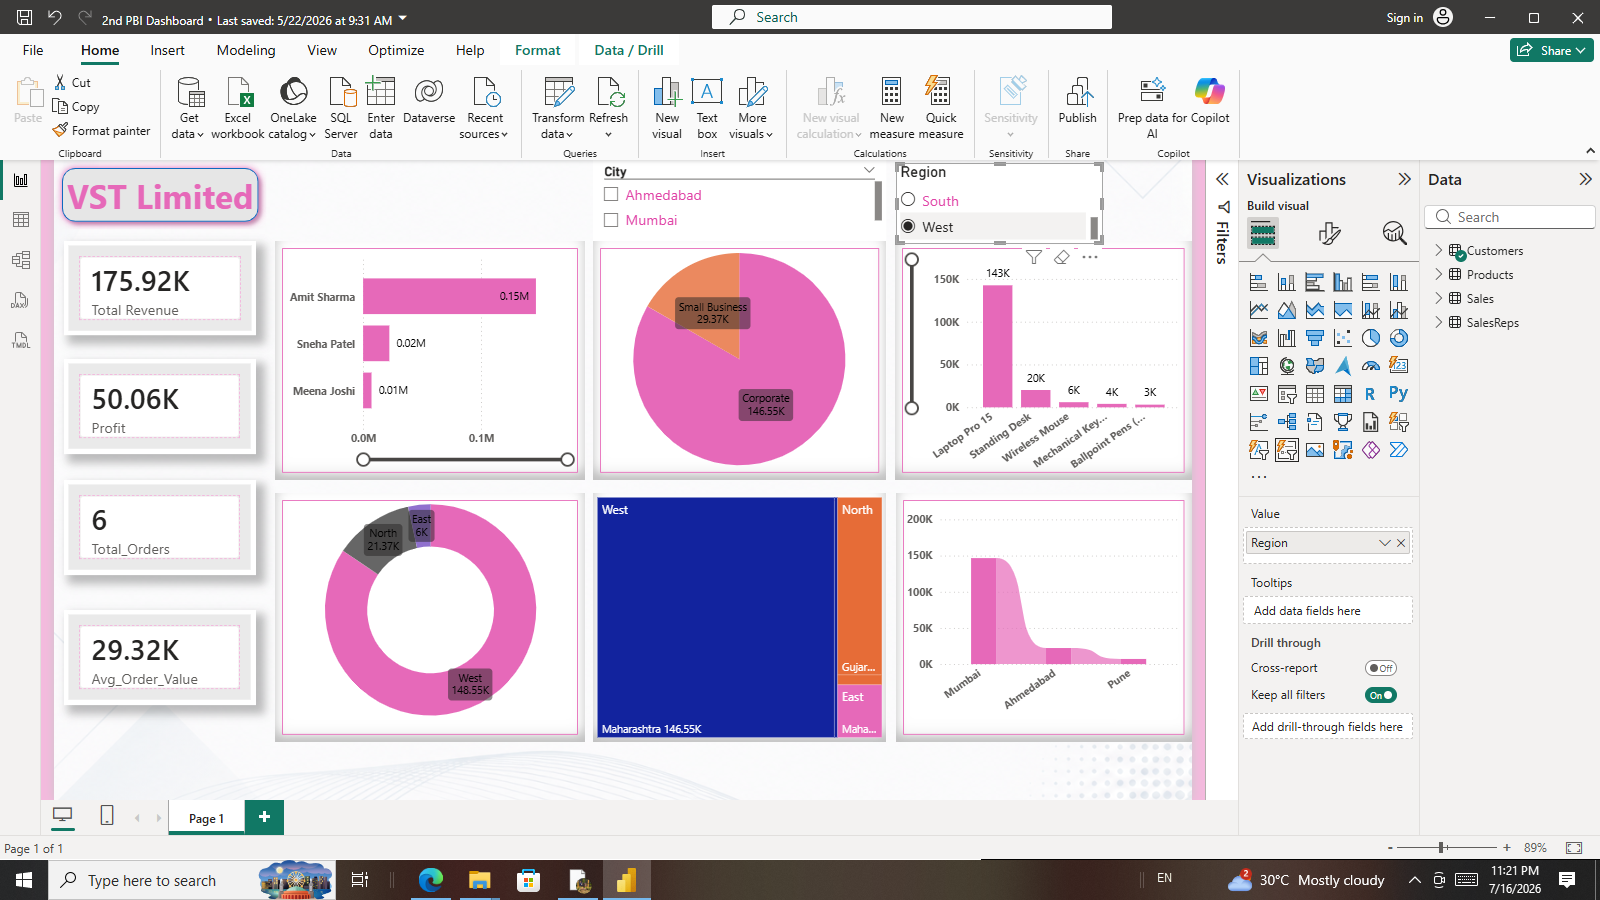

The dashboard page shown, as its layout file describes it:
{"tool":"powerbi","page":{"name":"Page 1","canvas":[1280,720],"ordinal":0},"visuals":[{"type":"shape","box":[0,0,239,78.4],"z":0},{"type":"cardVisual","fields":{"Data":["Customers.Total Revenue"]},"box":[11.2,91.2,216.2,106.2],"z":1000},{"type":"cardVisual","fields":{"Data":["Customers.Profit"]},"box":[11.6,223.6,215.9,106.7],"z":2000},{"type":"cardVisual","fields":{"Data":["Customers.Total_Orders"]},"box":[11.6,359.8,215.9,106.7],"z":3000},{"type":"cardVisual","fields":{"Data":["Customers.Avg_Order_Value"]},"box":[11.6,506.3,215.9,106.7],"z":4000},{"type":"shape","box":[248.8,91.2,348.8,268.8],"z":5000},{"type":"shape","box":[606.2,91.2,330,268.8],"z":6000},{"type":"shape","box":[248.8,375,348.8,280],"z":7000},{"type":"shape","box":[606.2,375,330,280],"z":8000},{"type":"shape","box":[946.2,91.2,333.8,268.8],"z":9000},{"type":"shape","box":[947.5,375,332.5,280],"z":10000},{"type":"clusteredBarChart","fields":{"Category":["Customers.CustomerName"],"Y":["Sum(Sales.TotalAmount)"]},"box":[258.8,98.8,338.8,248.8],"z":11000},{"type":"ribbonChart","fields":{"Category":["Customers.City"],"Y":["Sum(Sales.TotalAmount)"]},"box":[953.8,390,318.8,248.8],"z":12000},{"type":"pieChart","fields":{"Category":["Customers.Segment"],"Y":["Sum(Sales.TotalAmount)"]},"box":[542.5,53.8,457.5,340],"z":13000},{"type":"donutChart","fields":{"Category":["SalesReps.Region"],"Y":["Sum(Sales.TotalAmount)"]},"box":[226.2,321.2,395,368.8],"z":14000},{"type":"treemap","fields":{"Group":["SalesReps.Region","Customers.City"],"Details":["Customers.State"],"Values":["Sum(Sales.TotalAmount)"]},"box":[606.2,375,330,280],"z":15000},{"type":"columnChart","fields":{"Category":["Products.ProductName"],"Y":["Sum(Sales.TotalAmount)"]},"box":[953.8,98.8,318.8,261.2],"z":16000},{"type":"listSlicer","fields":{"Values":["Customers.Region"]},"box":[947.2,3.4,232.9,91.1],"z":17000},{"type":"slicer","fields":{"Values":["Customers.City"]},"box":[606.4,0,329.6,91.1],"z":18000}]}

Visuals, with their boxes on the page's 1280x720 design canvas (x1, y1, x2, y2). These are canvas units, not pixel positions in the 1600x900 screenshot, which may show the page scaled, cropped or inside an application window:
shape: x1=0, y1=0, x2=239, y2=78
cardVisual - Customers.Total Revenue: x1=11, y1=91, x2=227, y2=197
cardVisual - Customers.Profit: x1=12, y1=224, x2=228, y2=330
cardVisual - Customers.Total_Orders: x1=12, y1=360, x2=228, y2=466
cardVisual - Customers.Avg_Order_Value: x1=12, y1=506, x2=228, y2=613
shape: x1=249, y1=91, x2=598, y2=360
shape: x1=606, y1=91, x2=936, y2=360
shape: x1=249, y1=375, x2=598, y2=655
shape: x1=606, y1=375, x2=936, y2=655
shape: x1=946, y1=91, x2=1280, y2=360
shape: x1=948, y1=375, x2=1280, y2=655
clusteredBarChart - Customers.CustomerName x Sum(Sales.TotalAmount): x1=259, y1=99, x2=598, y2=348
ribbonChart - Customers.City x Sum(Sales.TotalAmount): x1=954, y1=390, x2=1273, y2=639
pieChart - Customers.Segment x Sum(Sales.TotalAmount): x1=542, y1=54, x2=1000, y2=394
donutChart - SalesReps.Region x Sum(Sales.TotalAmount): x1=226, y1=321, x2=621, y2=690
treemap - SalesReps.Region x Customers.City: x1=606, y1=375, x2=936, y2=655
columnChart - Products.ProductName x Sum(Sales.TotalAmount): x1=954, y1=99, x2=1273, y2=360
listSlicer - Customers.Region: x1=947, y1=3, x2=1180, y2=94
slicer - Customers.City: x1=606, y1=0, x2=936, y2=91
